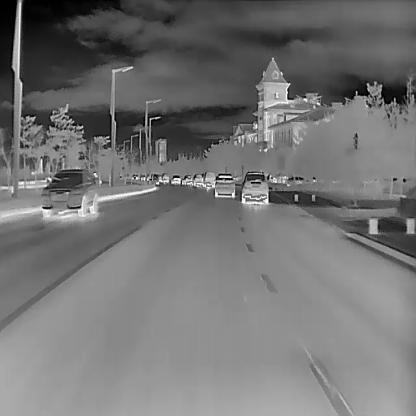car: (41, 168, 98, 216), (240, 171, 268, 203), (213, 172, 235, 197), (202, 171, 215, 188), (285, 175, 305, 184), (193, 173, 203, 186), (181, 174, 191, 184), (171, 174, 180, 184), (162, 171, 169, 182)
